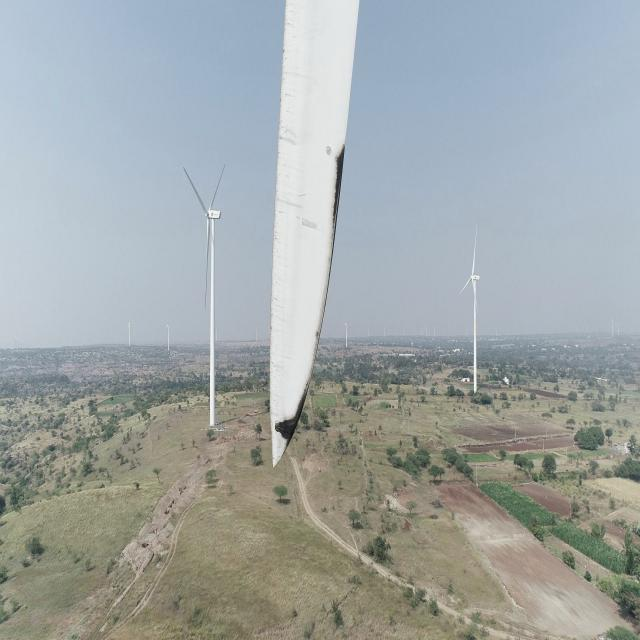oil_leakage: (274, 392, 307, 446), (332, 143, 345, 226)
